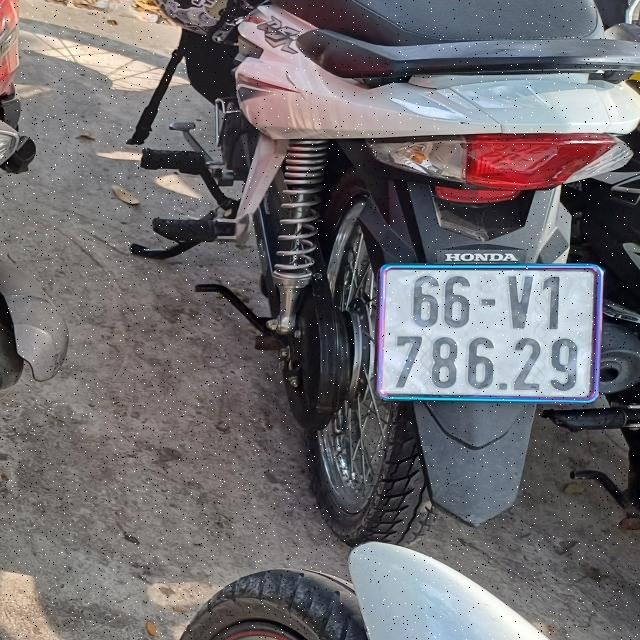1: (543, 273, 567, 327)
2: (512, 339, 542, 390)
6: (465, 337, 496, 388), (442, 274, 472, 326), (412, 275, 438, 329)
7: (394, 332, 424, 390)
8: (430, 336, 458, 388)
9: (550, 335, 581, 393)
V: (506, 274, 536, 331)
